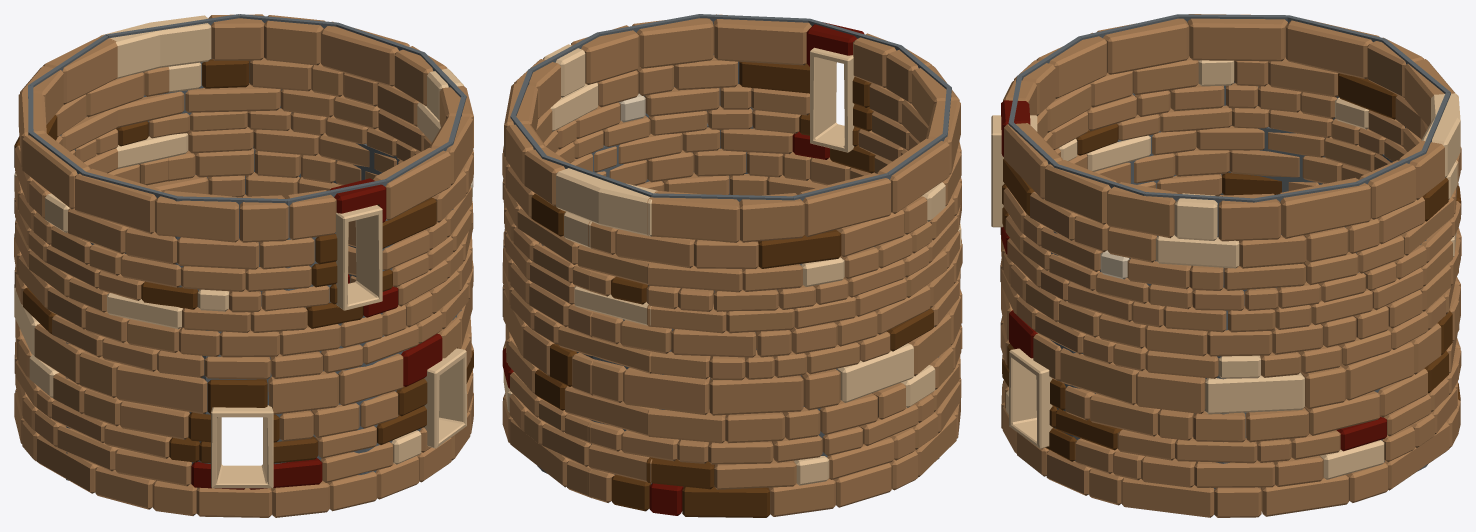
File: mid-section-with-three-slits.glb
3 views of the same model, side by side, from view 1: azimuth 30°, elevation 25°; view 2: azimuth 150°, elevation 25°; view 3: azimuth 270°, elevation 25° (orthographic).
Visible parts, largest first — view 1: main-wall.086, grout-wall.001, upper-slit-frame, right-slit-frame, left-slit-frame; view 2: main-wall.086, grout-wall.001, upper-slit-frame; view 3: main-wall.086, grout-wall.001, right-slit-frame, upper-slit-frame.
Boxes of the visible parts, bbox=[...] form: main-wall.086: bbox=[14, 14, 473, 517]; grout-wall.001: bbox=[28, 14, 466, 488]; upper-slit-frame: bbox=[336, 205, 382, 310]; right-slit-frame: bbox=[423, 348, 466, 448]; left-slit-frame: bbox=[211, 405, 273, 488]; main-wall.086: bbox=[502, 14, 962, 517]; grout-wall.001: bbox=[510, 14, 951, 508]; upper-slit-frame: bbox=[810, 47, 854, 152]; main-wall.086: bbox=[1000, 14, 1461, 517]; grout-wall.001: bbox=[1008, 14, 1450, 514]; right-slit-frame: bbox=[1009, 348, 1052, 448]; upper-slit-frame: bbox=[991, 115, 1037, 227].
Size of the model in its own units: 2.9 by 2.19 by 2.96.
